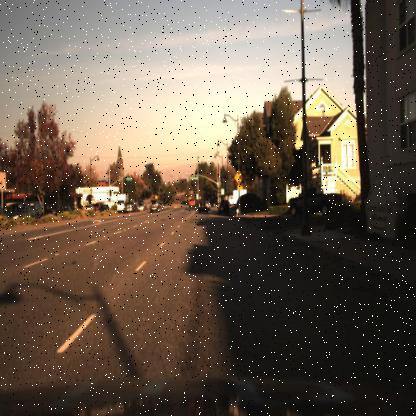car: (282, 178, 341, 226), (284, 183, 342, 217), (149, 193, 164, 216), (122, 194, 135, 216), (194, 198, 208, 216), (136, 201, 146, 217)
truck: (115, 192, 127, 216)
